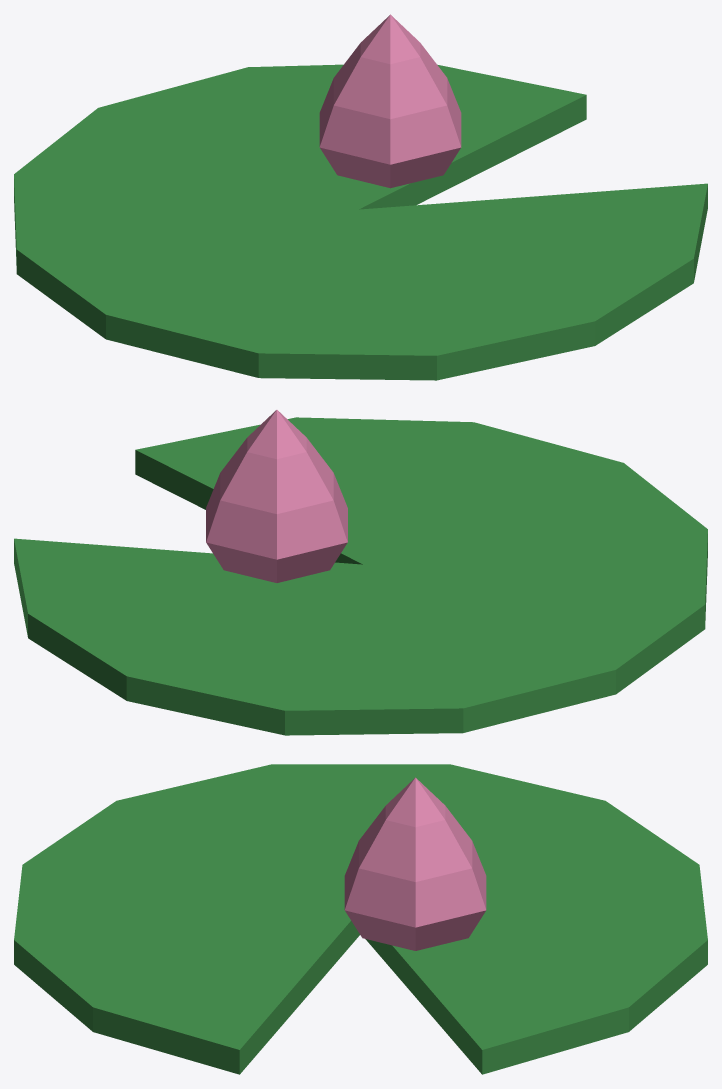
File: lilypad.glb
The picture shows the model from 3 angles, top to bottom: view 1: azimuth 30°, elevation 25°; view 2: azimuth 150°, elevation 25°; view 3: azimuth 270°, elevation 25°; orthographic projection.
Visible parts, largest first — view 1: lily; view 2: lily; view 3: lily.
Part boxes in pixels (<box>): lily: <box>14,14,707,380</box>; lily: <box>14,410,707,735</box>; lily: <box>14,764,707,1074</box>.
Bounding box in the file's own units: 0.496 × 0.15 × 0.509.
